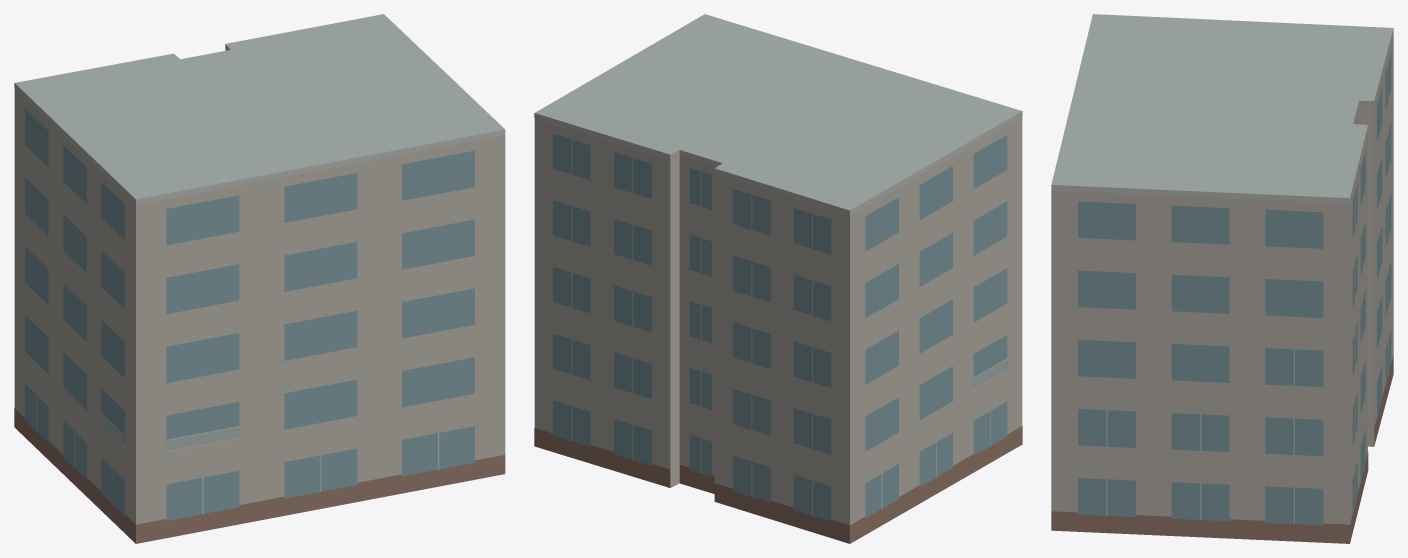
File: survey-upis-32654230.glb
3 renders of one model, left to right at view 1: azimuth 30°, elevation 25°; view 2: azimuth 150°, elevation 25°; view 3: azimuth 270°, elevation 25°, orthographic. The views are drawn at different scales.
Visible parts, largest first — view 1: survey-upis-32654230.tmp; view 2: survey-upis-32654230.tmp; view 3: survey-upis-32654230.tmp.
Boxes of the visible parts, x1=… form: survey-upis-32654230.tmp: x1=14, y1=14, x2=505, y2=543; survey-upis-32654230.tmp: x1=534, y1=14, x2=1022, y2=543; survey-upis-32654230.tmp: x1=1051, y1=14, x2=1393, y2=543.
Size of the model in its own units: 17.43 by 15.25 by 13.7.
